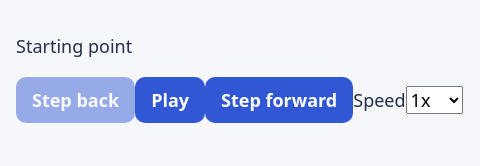
Test: AnimationStage › Play › auto-advances through every frame and stops itself at the end
Click the button "Play".
click(170, 100)  # box [135,77,205,123]
Wait 8400 ms
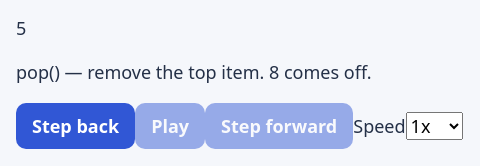
Expected: the button "Play" is shown, [135,103,205,149]
Expected: the text with test id "frame" reads "5", [16,16,26,40]
